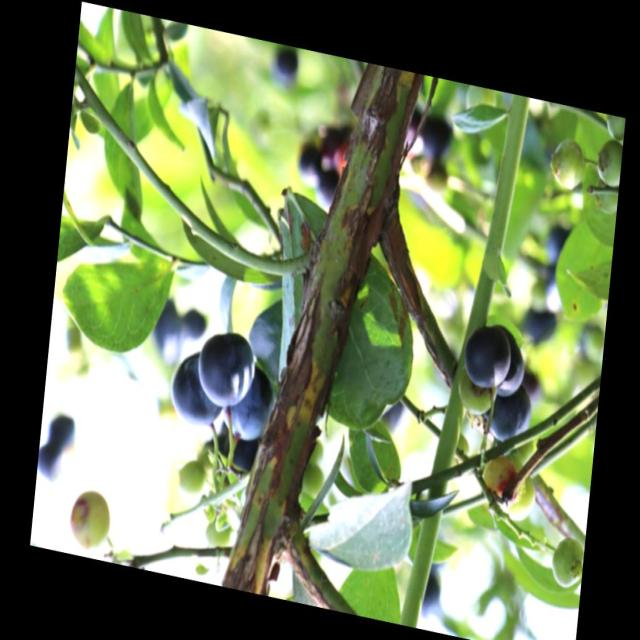blueberry: (195, 323, 257, 413), (218, 358, 279, 448), (168, 347, 226, 432), (461, 317, 514, 393), (490, 322, 532, 404), (482, 383, 532, 448)
blueberry-unripe: (66, 485, 111, 553), (478, 452, 524, 517), (548, 136, 586, 192), (549, 533, 584, 585), (456, 376, 494, 419), (176, 458, 206, 507), (595, 138, 622, 186)
